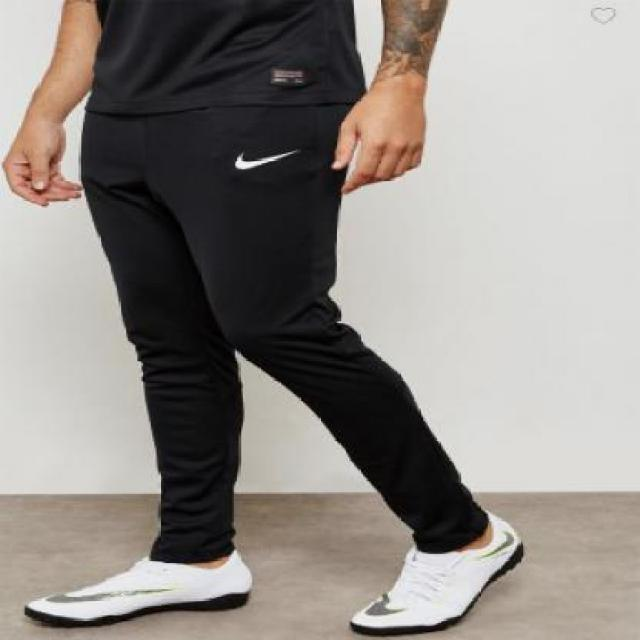Nike: (231, 145, 302, 167)
